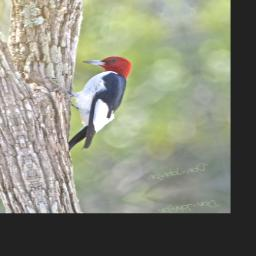Woodpecker: (37, 50, 158, 155)
